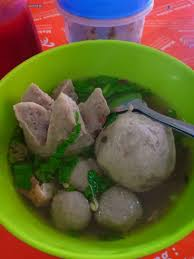bakso: (7, 76, 165, 231)
